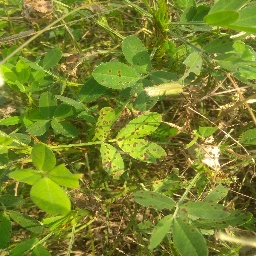GroundNut_Leaf: (27, 93, 81, 137), (28, 178, 72, 218), (90, 61, 139, 91), (172, 218, 209, 255), (115, 111, 162, 140), (123, 142, 170, 165), (134, 191, 176, 213), (99, 144, 122, 182), (29, 142, 57, 171), (202, 8, 241, 28), (143, 80, 184, 98), (93, 105, 112, 140), (181, 204, 233, 216), (43, 46, 65, 68), (1, 215, 10, 249)
